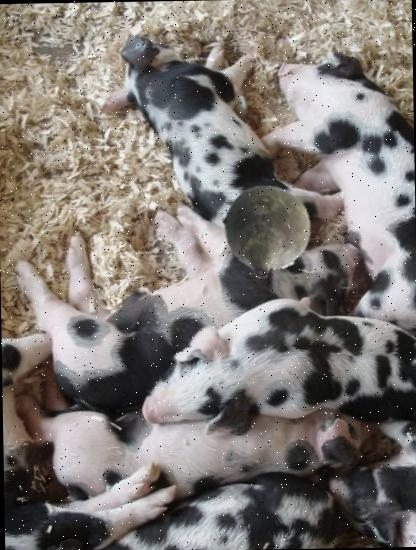Beetroot: (218, 183, 316, 281)
